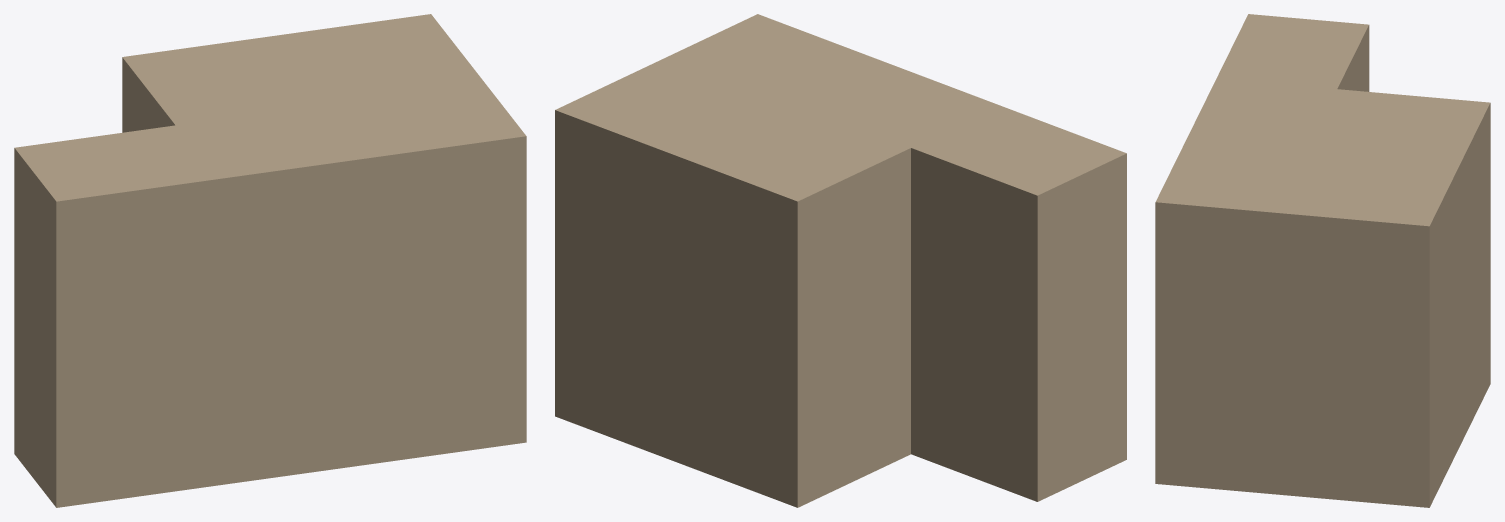
File: bld_100469804.dae
3 renders of one model, left to right at view 1: azimuth 30°, elevation 25°; view 2: azimuth 150°, elevation 25°; view 3: azimuth 270°, elevation 25°, orthographic. The views are drawn at different scales.
Visible parts, largest first — view 1: bld_100469804; view 2: bld_100469804; view 3: bld_100469804.
Part boxes in pixels (x1,y1,x2,y2): bld_100469804: (14, 14, 526, 507); bld_100469804: (555, 14, 1126, 507); bld_100469804: (1155, 14, 1490, 507).
Bounding box in the file's own units: 12.93 × 8.62 × 8.
